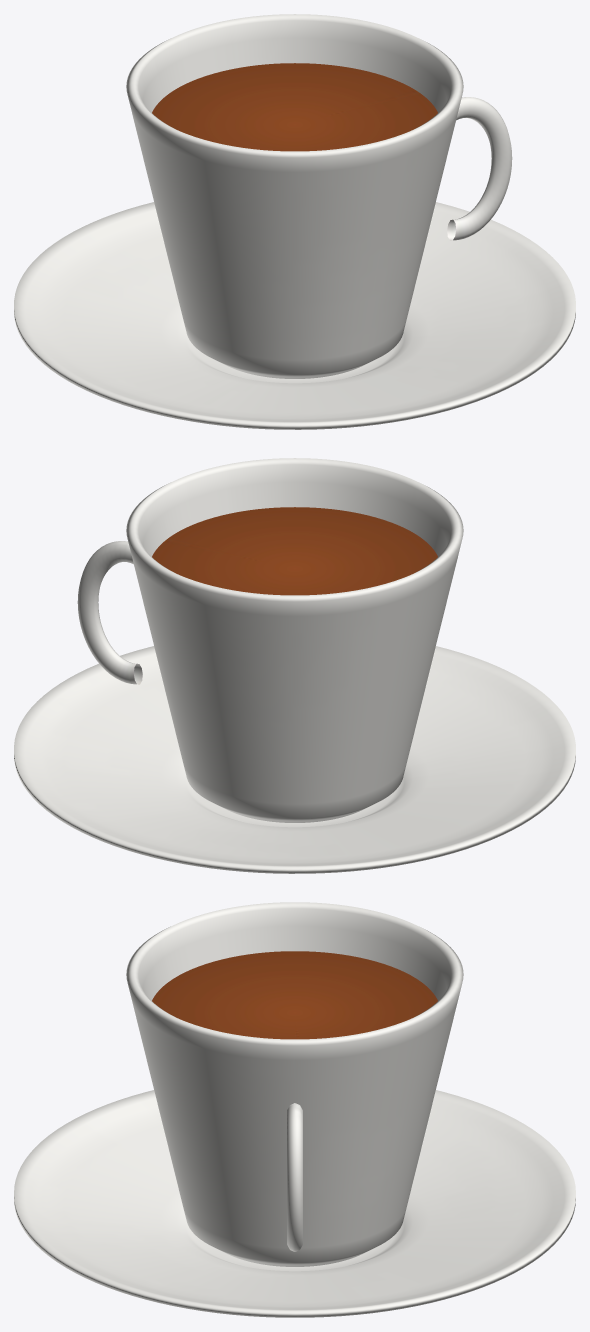
The model's file is hot-tea.glb.
3 renders of one model, top to bottom at view 1: azimuth 30°, elevation 25°; view 2: azimuth 150°, elevation 25°; view 3: azimuth 270°, elevation 25°, orthographic.
Visible parts, largest first — view 1: ceramic, gloss; view 2: ceramic, gloss; view 3: ceramic, gloss.
Part boxes in pixels (x1,y1,x2,y2): ceramic: (14,14,575,429); gloss: (152,63,437,151); ceramic: (14,458,575,873); gloss: (152,507,437,595); ceramic: (14,902,575,1317); gloss: (152,951,437,1039).
Bounding box in the file's own units: 0.16 × 0.0852 × 0.16.
Materials: 2 (2 with a texture image).
